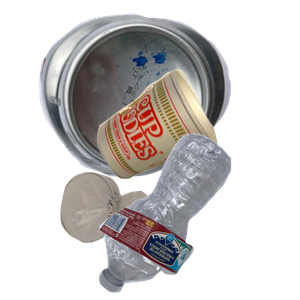glass: (58, 170, 202, 300)
metal: (37, 11, 261, 180)
plastic: (96, 131, 300, 300)
trash: (95, 67, 300, 238)
